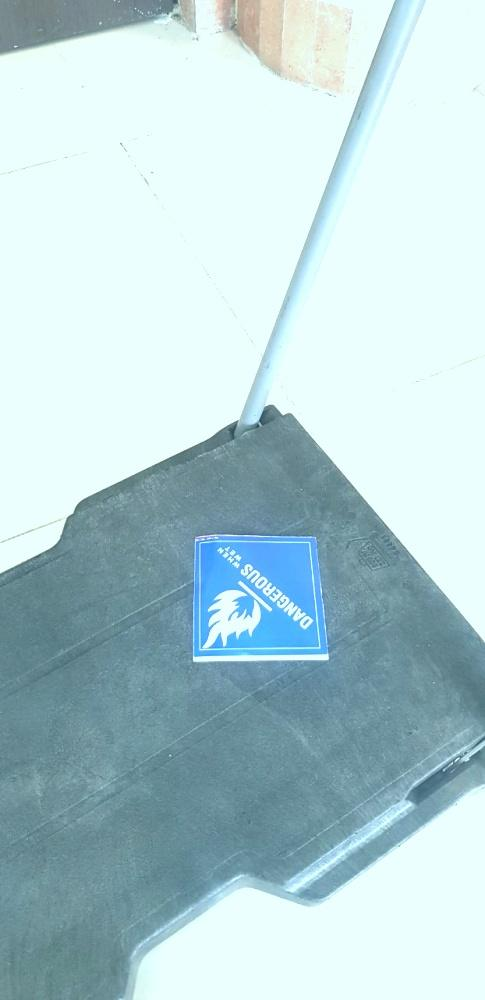dangerous-when-wet: (193, 537, 324, 660)
